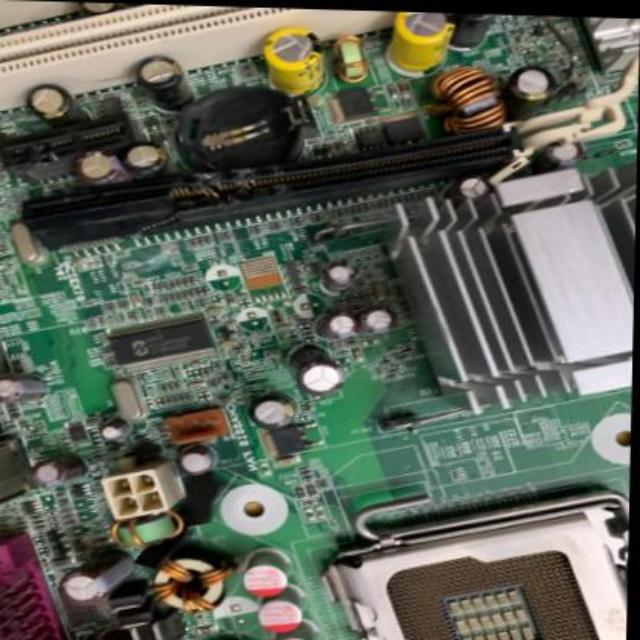PCB: (11, 0, 640, 640)
